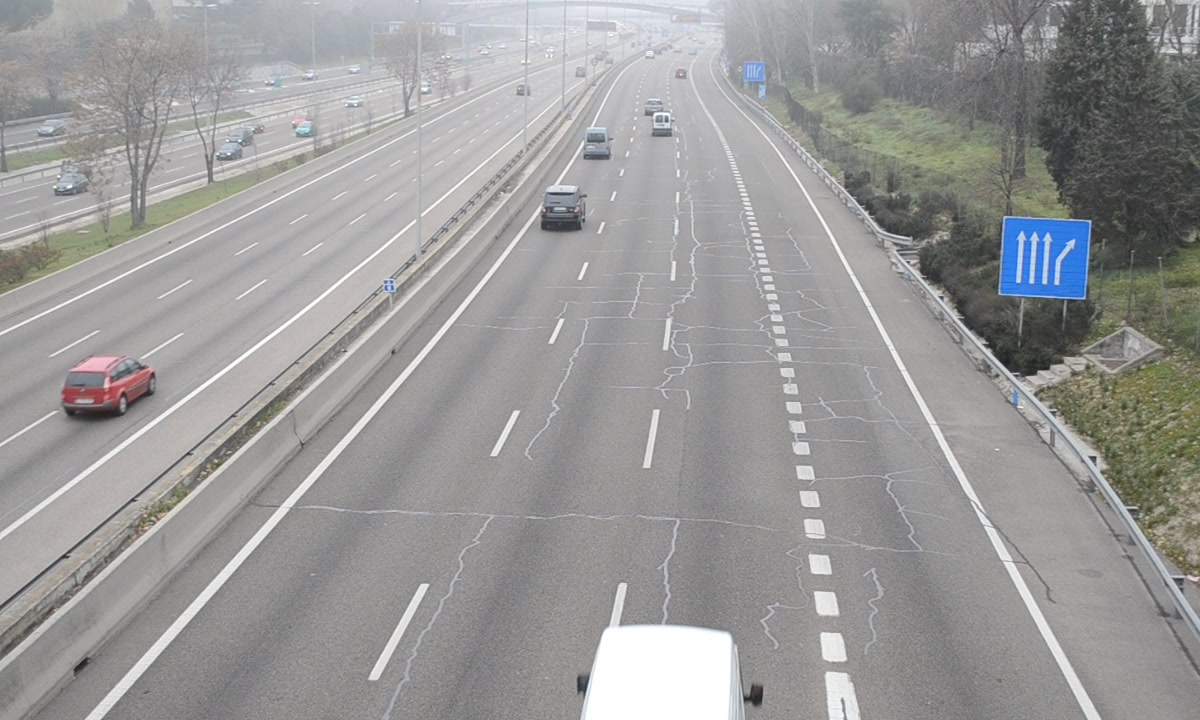car: (541, 184, 587, 229)
van: (584, 127, 610, 158)
